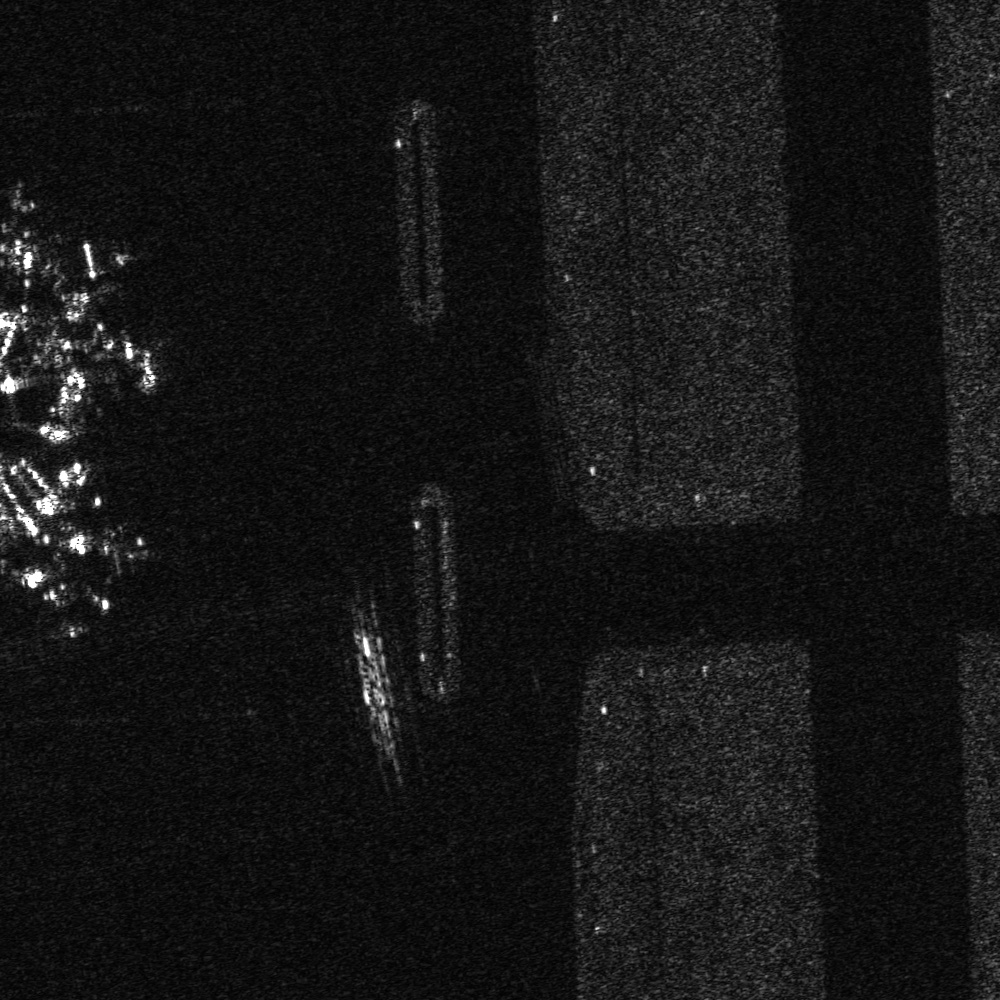A320/321: (55, 514, 155, 585), (1, 187, 60, 286)
Boeing737: (16, 560, 122, 638)
